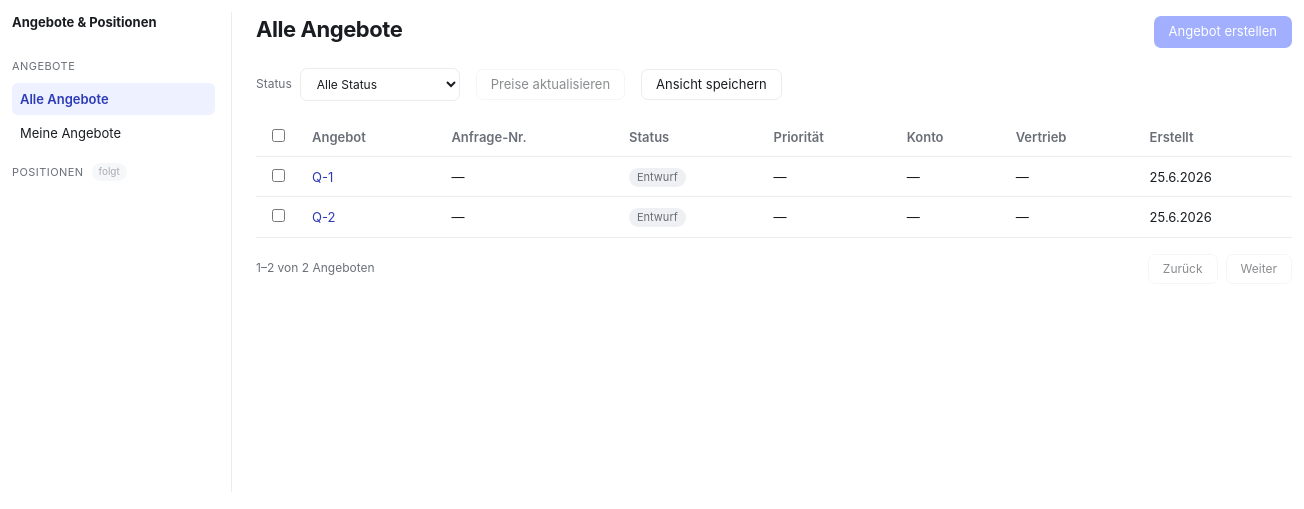
it: QuotesPage › bulk-refreshes the selected quotes and reports the result
Expected: the link "Q-1" is shown, x1=312 y1=169 x2=333 y2=185
Select both rows via the header "select all" checkbox, then Refresh Pricing.
Click the checkbox named "Alle auswählen" at (278, 136), box x1=272 y1=129 x2=285 y2=142
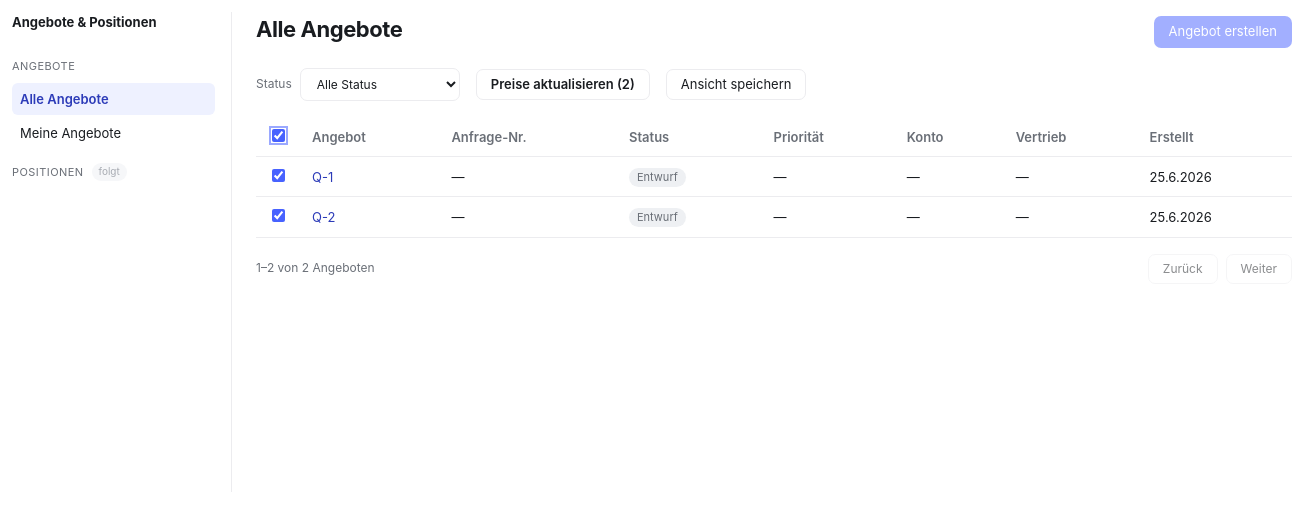
Click the button "Preise aktualisieren (2)" at (563, 85), box x1=476 y1=69 x2=650 y2=100
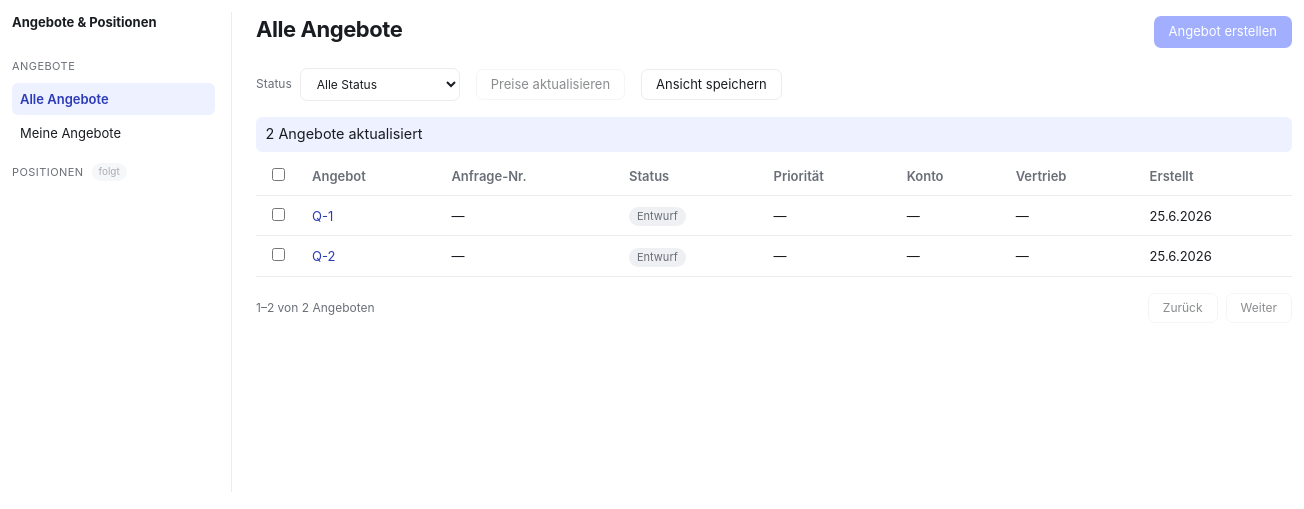
Expected: the text "2 Angebote aktualisiert" is shown, x1=256 y1=117 x2=1292 y2=152
